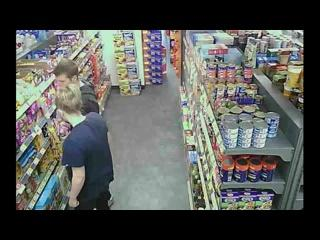shoplifting: (54, 84, 114, 210), (52, 58, 100, 115)
